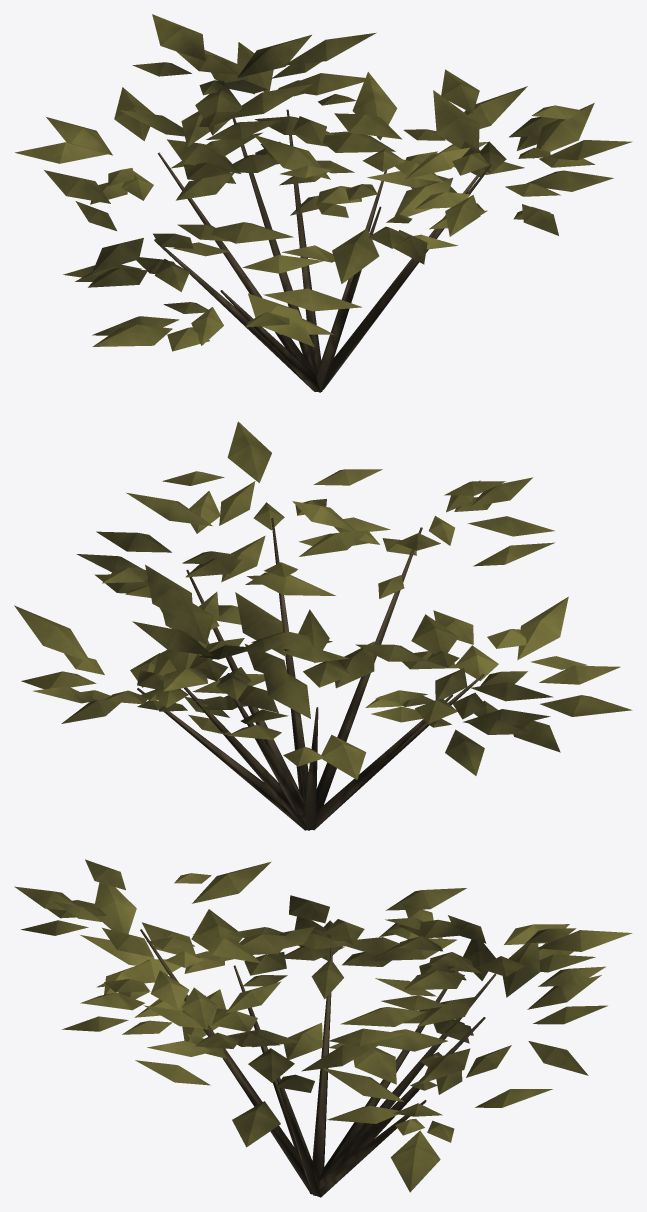
File: shrub.glb
The picture shows the model from 3 angles, top to bottom: view 1: azimuth 30°, elevation 25°; view 2: azimuth 150°, elevation 25°; view 3: azimuth 270°, elevation 25°; orthographic projection. The views are drawn at different scales.
Parts seen in each view (by area): view 1: shrub; view 2: shrub; view 3: shrub.
Part boxes in pixels (<box>): shrub: <box>15,14,632,392</box>; shrub: <box>14,421,632,830</box>; shrub: <box>14,859,632,1197</box>.
Bounding box in the file's own units: 2.25 × 1.19 × 2.25.
Materials: 2 (2 with a texture image).
